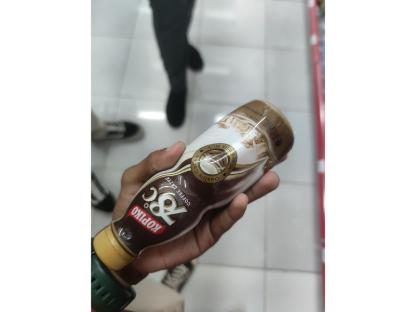Plastic Bottle: (72, 91, 310, 288)
